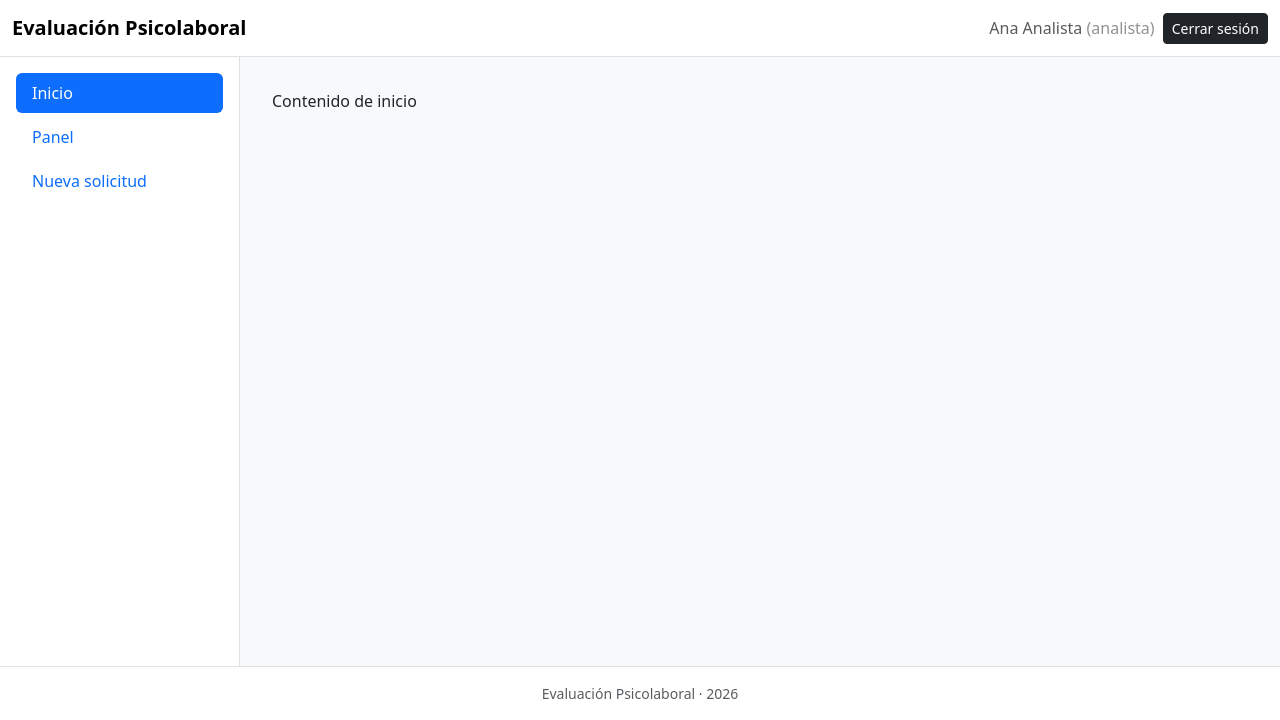
Layouts › AppLayout › mantiene el marco al navegar entre dos rutas hijas y solo cambia el contenido
Click the link "Panel" at [53, 137], box [32, 126, 74, 148]
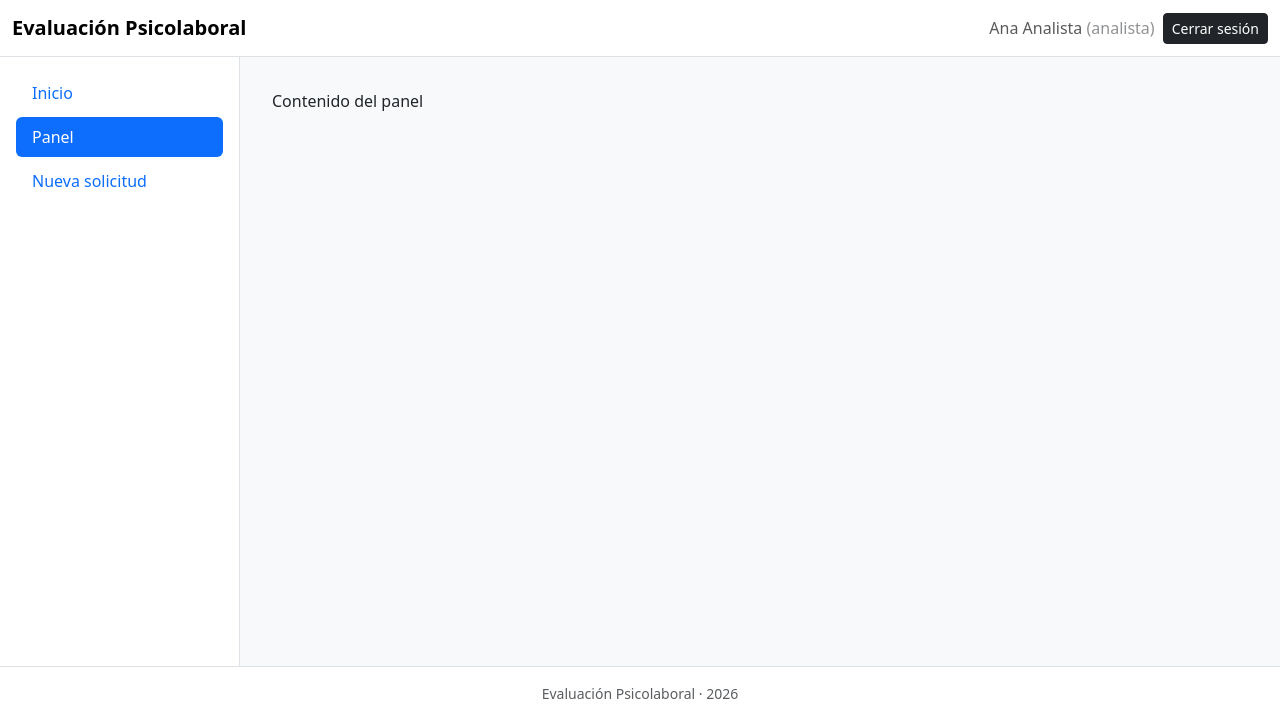
Check: the footer is shown, box [0, 666, 1279, 719]
Check: the text "Contenido del panel" is shown, box [272, 90, 423, 112]
Check: the text "Contenido de inicio" is gone
